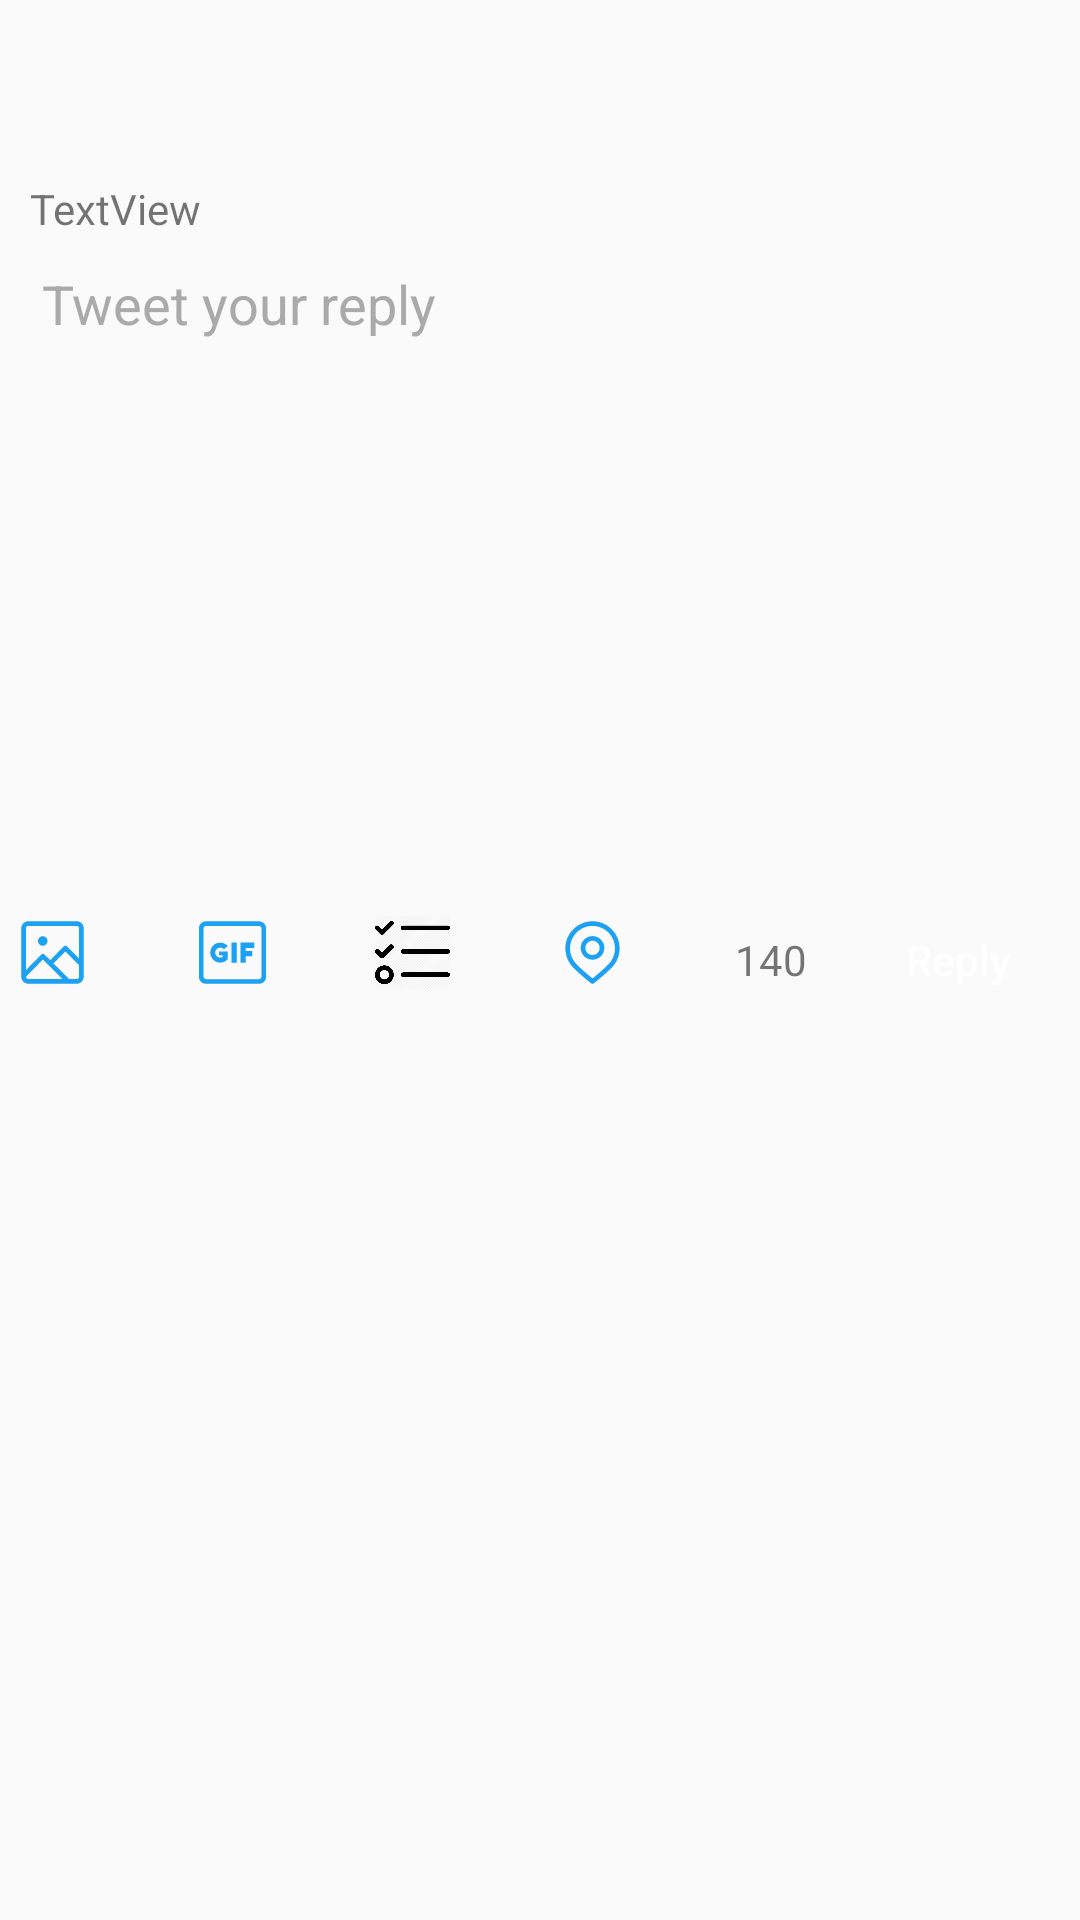

Locate icon controls on the screen. Image size 1080px x 1920px, boxes as (left=x1, top=y1, right=x2, bottom=y2).
location stroke: (left=565, top=921, right=620, bottom=984)
photo stroke: (left=21, top=921, right=84, bottom=984)
